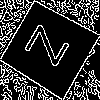Z: (24, 23, 78, 73)
